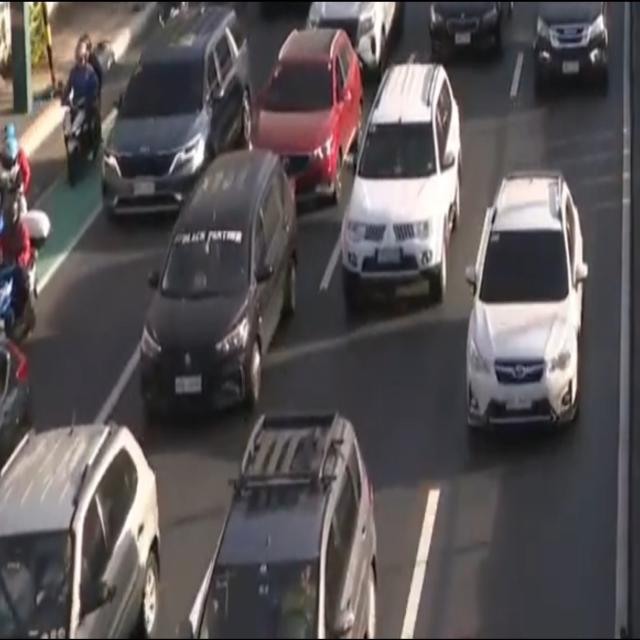Motorcycle: (0, 188, 50, 329), (58, 34, 106, 179), (1, 123, 32, 236)
SUV: (186, 410, 380, 640), (0, 420, 160, 640), (100, 10, 252, 218), (465, 172, 583, 431), (341, 63, 461, 310), (299, 0, 404, 71), (530, 2, 608, 94)
Sedan: (138, 150, 296, 418), (252, 30, 361, 203), (428, 0, 504, 71)
